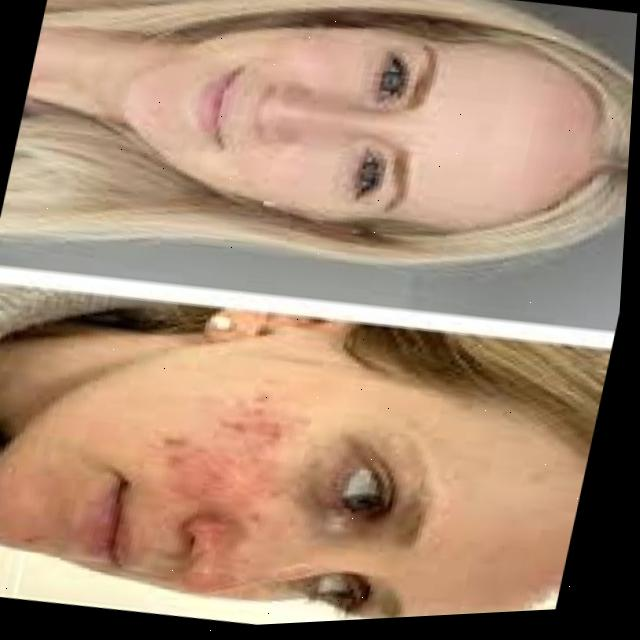Rosacea: (126, 377, 300, 556)
